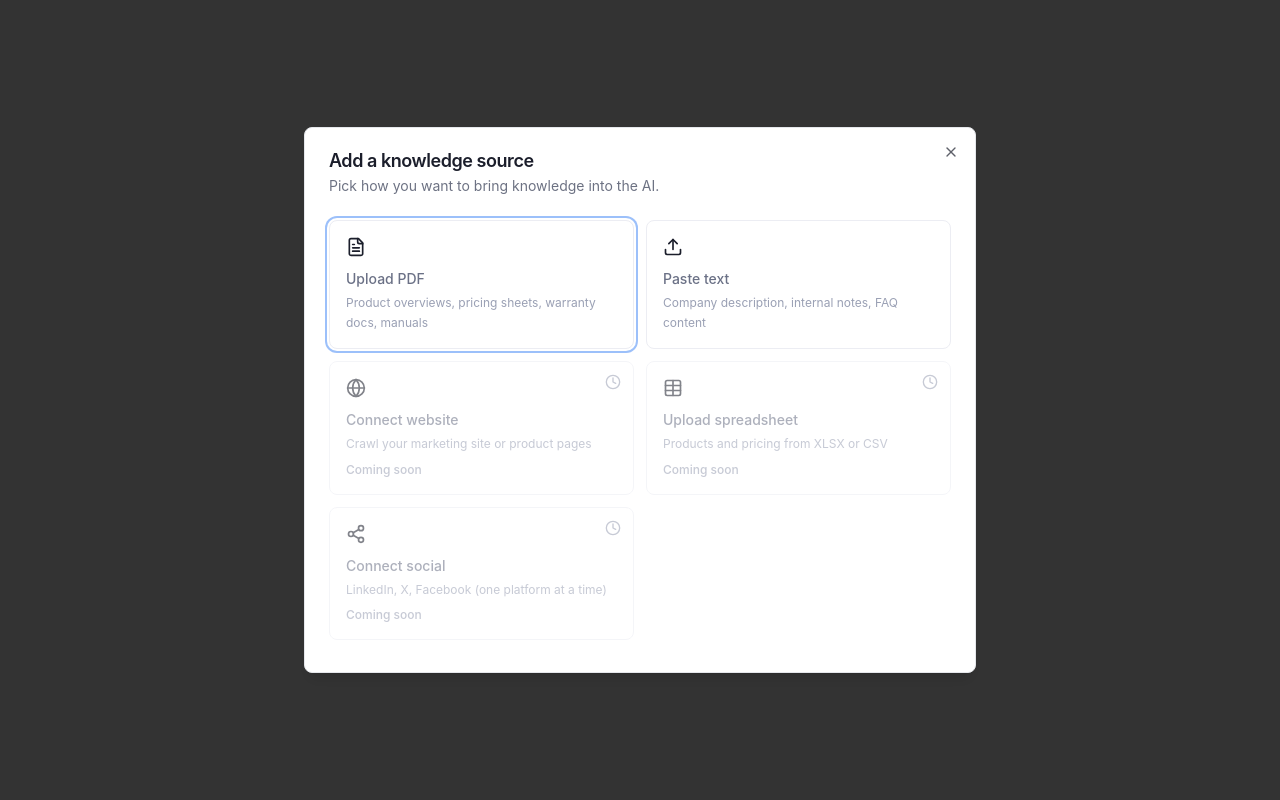
Test: AddSourceDialog — KAN-829 sub-cohort 4 › Test 5 — Step 2 → Step 3 (PDF input) renders drop zone + 10MB limit hint
Click the button "Upload PDF" at [385, 278], box [329, 220, 634, 349]
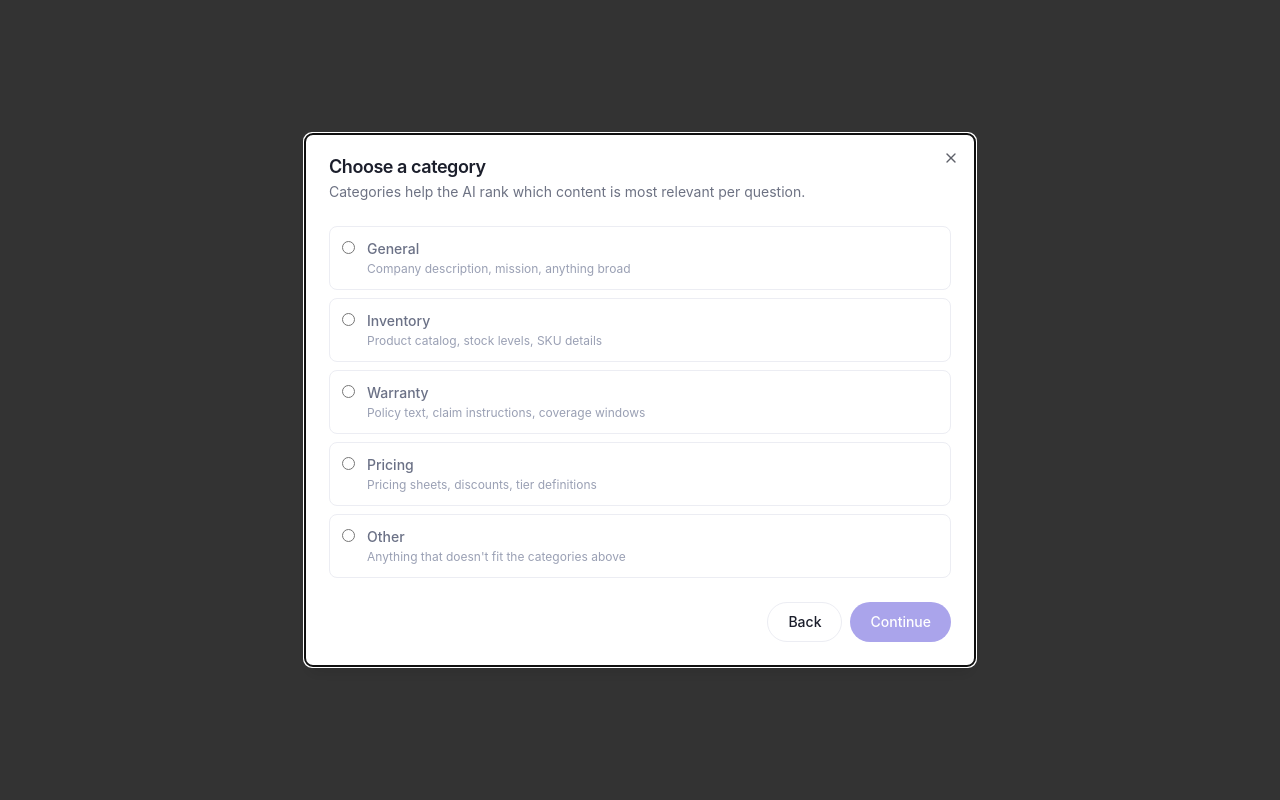
# pick category
Click the radio button labelled "General Company description, mission, anything broad" at [348, 248], box [342, 241, 355, 254]
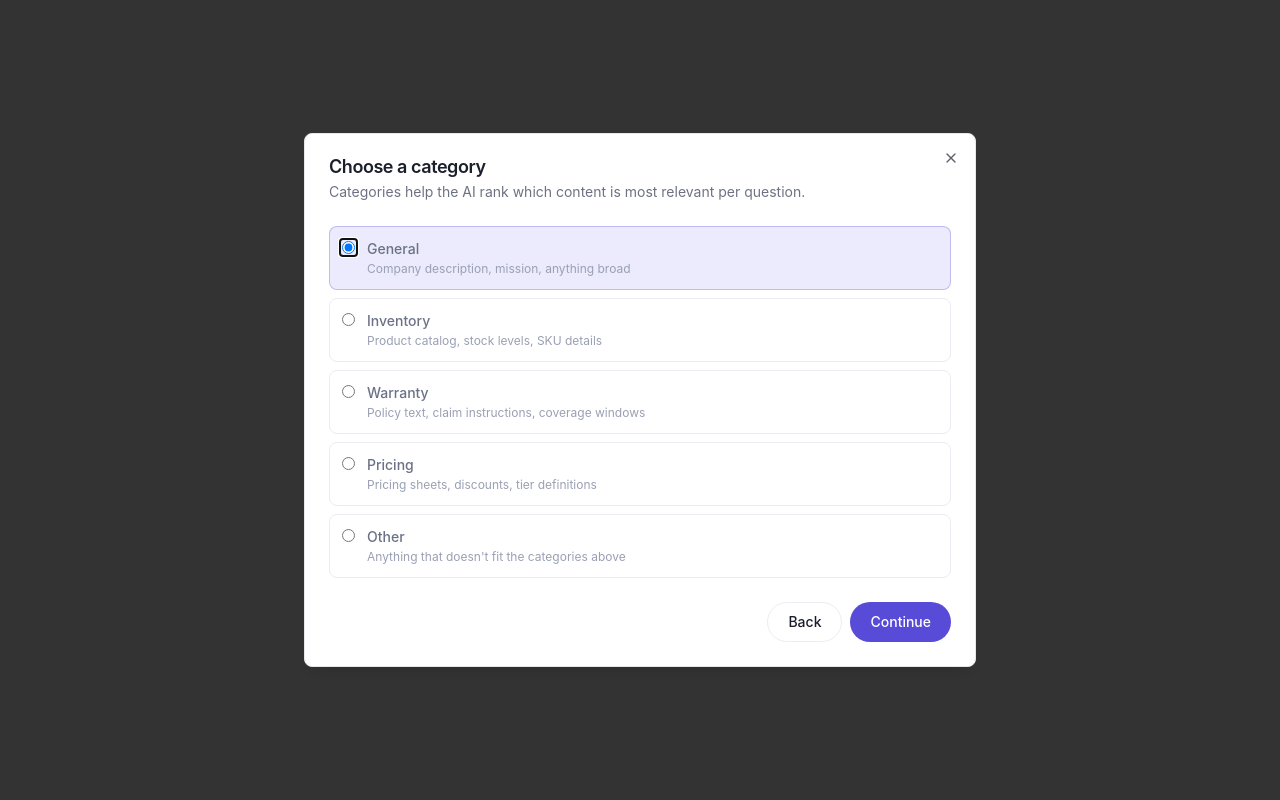
Click the button with aria-label "Confirm category and continue" at [901, 622], box [850, 602, 951, 642]
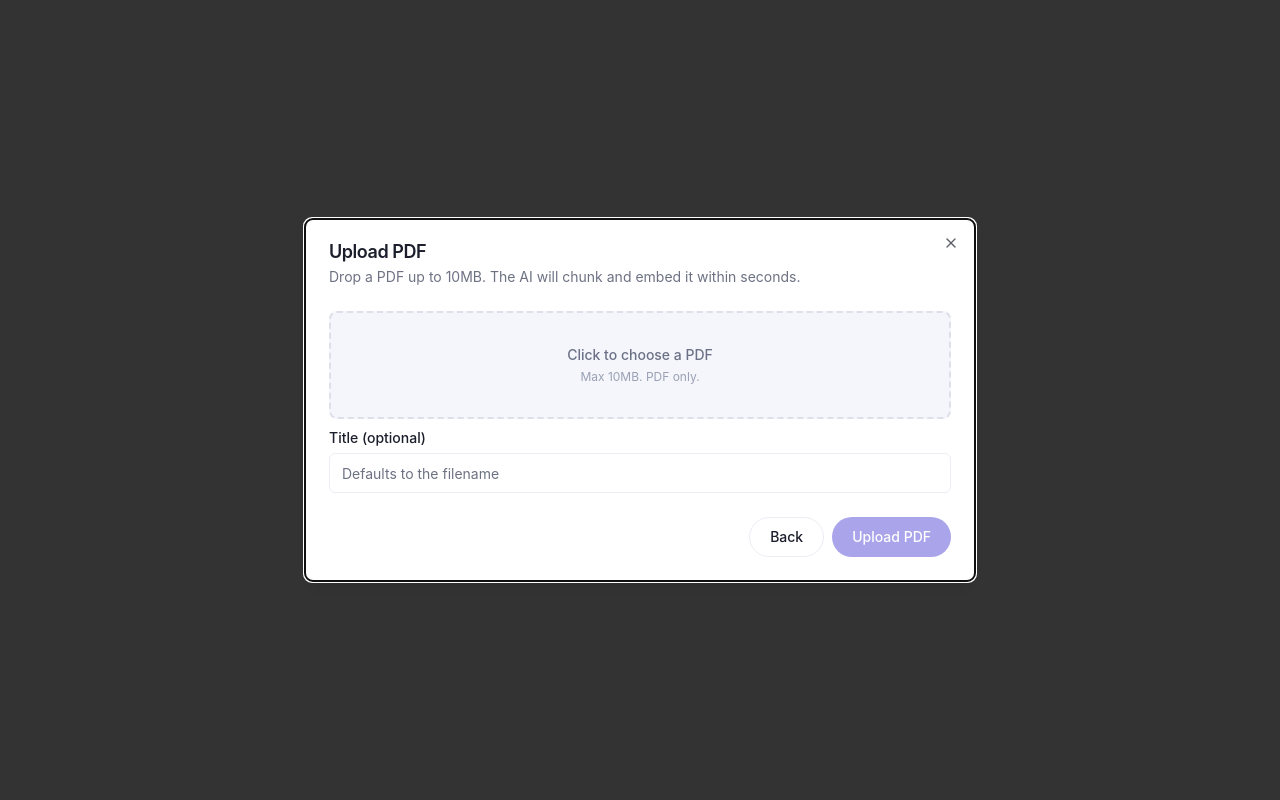
Check: the text "Click to choose a PDF" is shown, box [567, 345, 713, 365]
Check: the text "Max 10MB. PDF only." is shown, box [580, 369, 700, 385]
